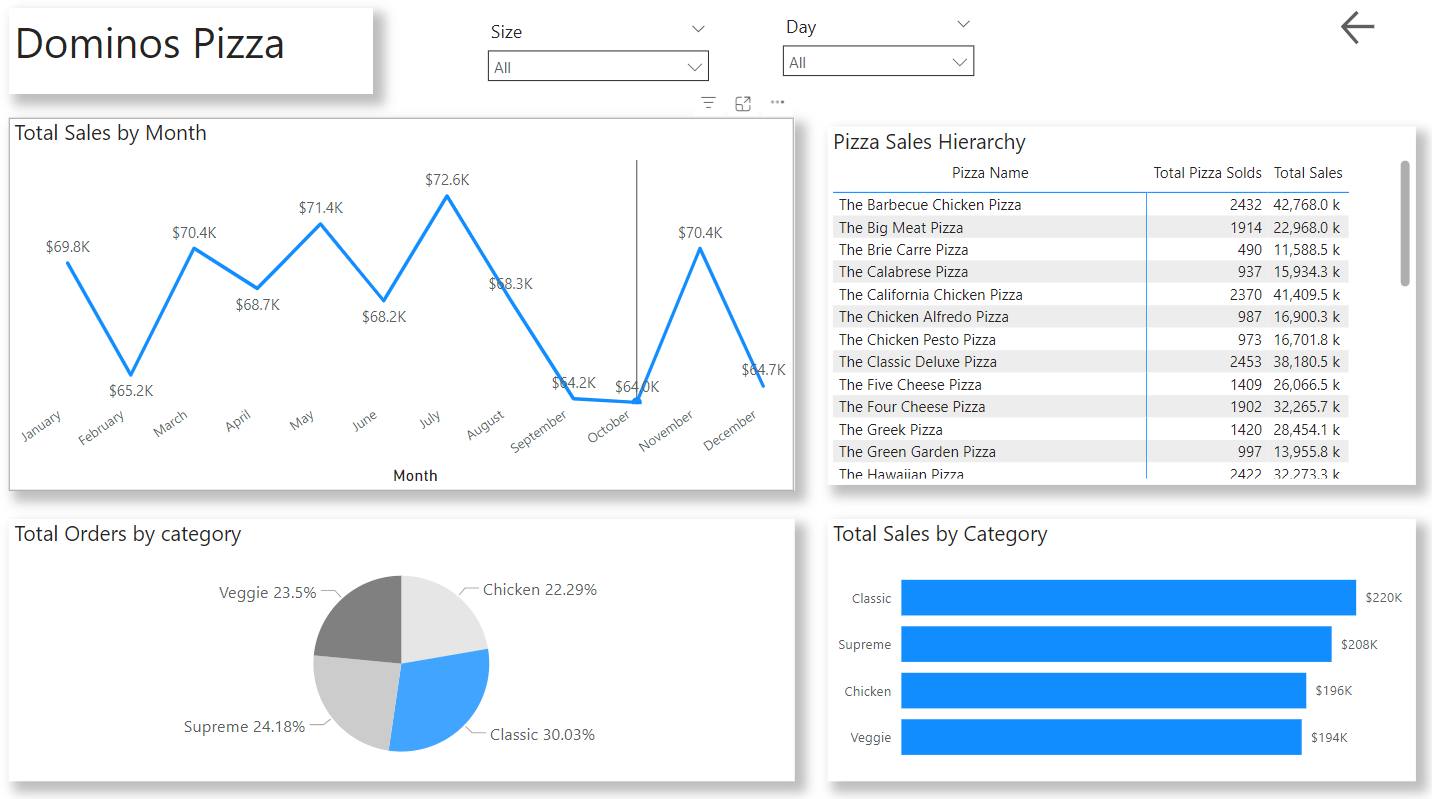

This screenshot's page, from the dashboard's own definition file:
{"tool":"powerbi","page":{"name":"Sales Summary Trend","canvas":[1280,720],"ordinal":1},"visuals":[{"type":"shape","box":[11.8,11.8,355.7,76.8],"z":0},{"type":"textbox","box":[11.8,11.8,324.7,76.8],"z":1000},{"type":"slicer","fields":{"Values":["Pizza Merge.size"]},"box":[428,16.2,217,72.3],"z":2000},{"type":"lineChart","fields":{"Y":["Calculations.Total Sales"],"Category":["orders.date.Variation.Date Hierarchy.Month"]},"box":[11.8,110.7,699.6,332.1],"z":3000},{"type":"pivotTable","title":"Pizza Sales Hierarchy","fields":{"Rows":["pizza_types.Pizza  Hierarchy.category","pizza_types.name","Pizza.size"],"Values":["Calculations.Total Pizza Solds","Calculations.Total Sales Dax"]},"box":[741,118.1,524,318.8],"z":4000},{"type":"slicer","fields":{"Values":["Date Table.Day of Week Name"]},"box":[690.8,11.8,190.4,76.8],"z":5000},{"type":"clusteredBarChart","fields":{"Y":["Calculations.Total Sales"],"Category":["pizza_types.Pizza  Hierarchy.Category"]},"box":[741,467.9,524,233.2],"z":6000},{"type":"actionButton","box":[1194.1,10.3,70.8,39.9],"z":7000},{"type":"pieChart","title":"Total Orders  by category","fields":{"Series":["pizza_types.category"],"Y":["Calculations.Total Pizza Solds"]},"box":[11.8,467.9,699.6,233.2],"z":8000}]}

Visuals, with their boxes in screenshot pixels (x1, y1, x2, y2), scaled from the page's 1280x720 canvas onto the 1432x799 screenshot:
shape: bbox=[13, 13, 411, 98]
textbox: bbox=[13, 13, 376, 98]
slicer - Pizza Merge.size: bbox=[479, 18, 722, 98]
lineChart - Calculations.Total Sales x orders.date.Variation.Date Hierarchy.Month: bbox=[13, 123, 796, 491]
"Pizza Sales Hierarchy" pivotTable: bbox=[829, 131, 1415, 485]
slicer - Date Table.Day of Week Name: bbox=[773, 13, 986, 98]
clusteredBarChart - Calculations.Total Sales x pizza_types.Pizza  Hierarchy.Category: bbox=[829, 519, 1415, 778]
actionButton: bbox=[1336, 11, 1415, 56]
"Total Orders  by category" pieChart: bbox=[13, 519, 796, 778]
